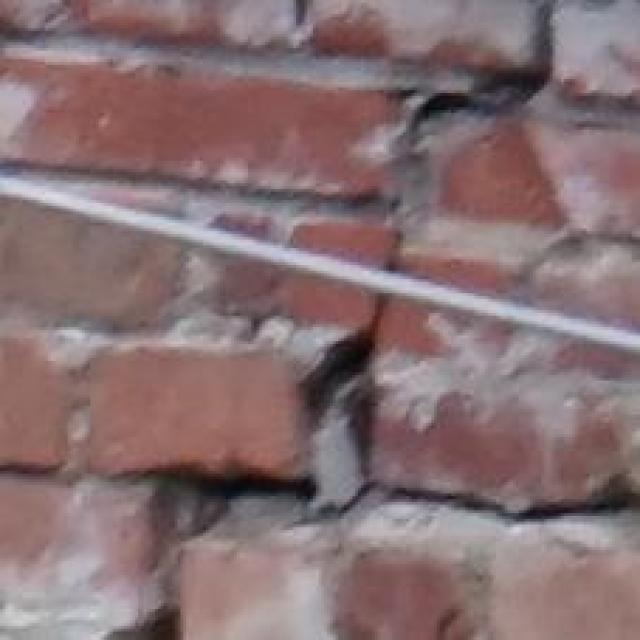Crack: (121, 53, 640, 640)
